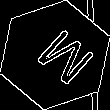M_SW: (20, 21, 90, 89)
